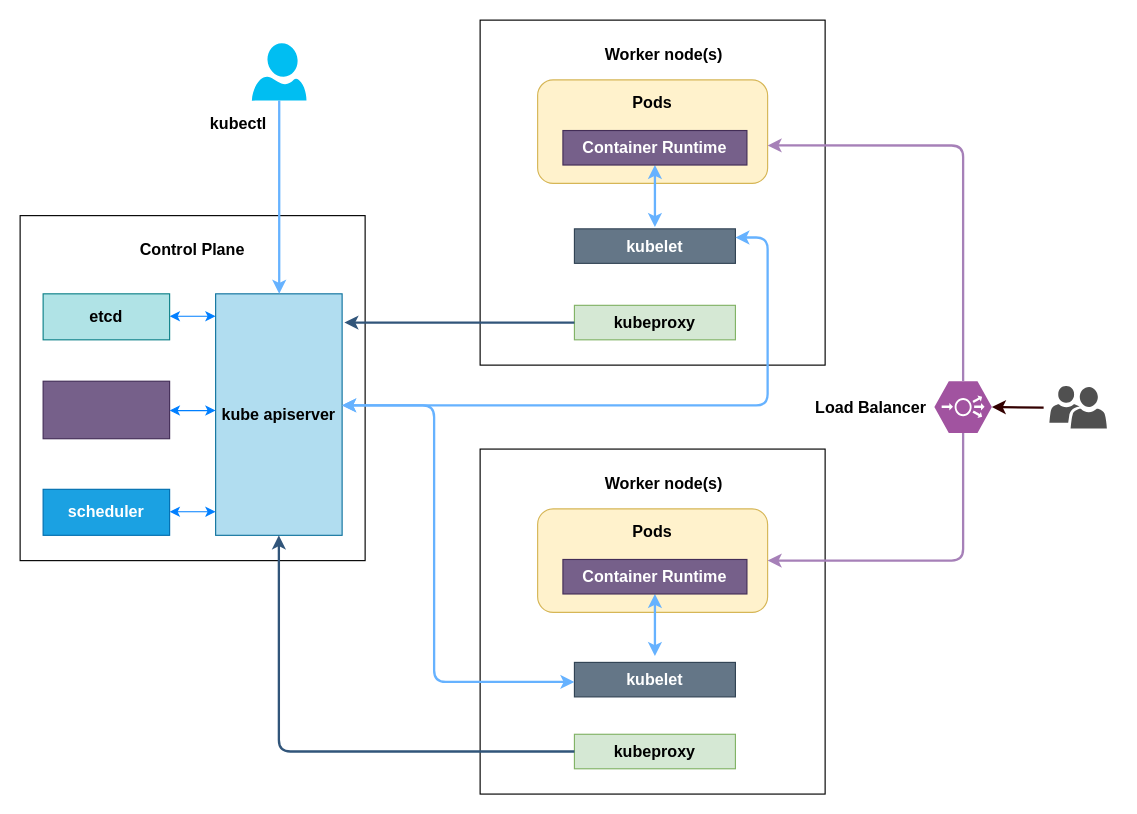
Image size: 1137x814. Some labels were removed from this diagram. Here are the shapes that lost their labels. From the top down, the centre of each, then its label:
the point at 106,409: controller manager
the point at 1077,406: End Users
